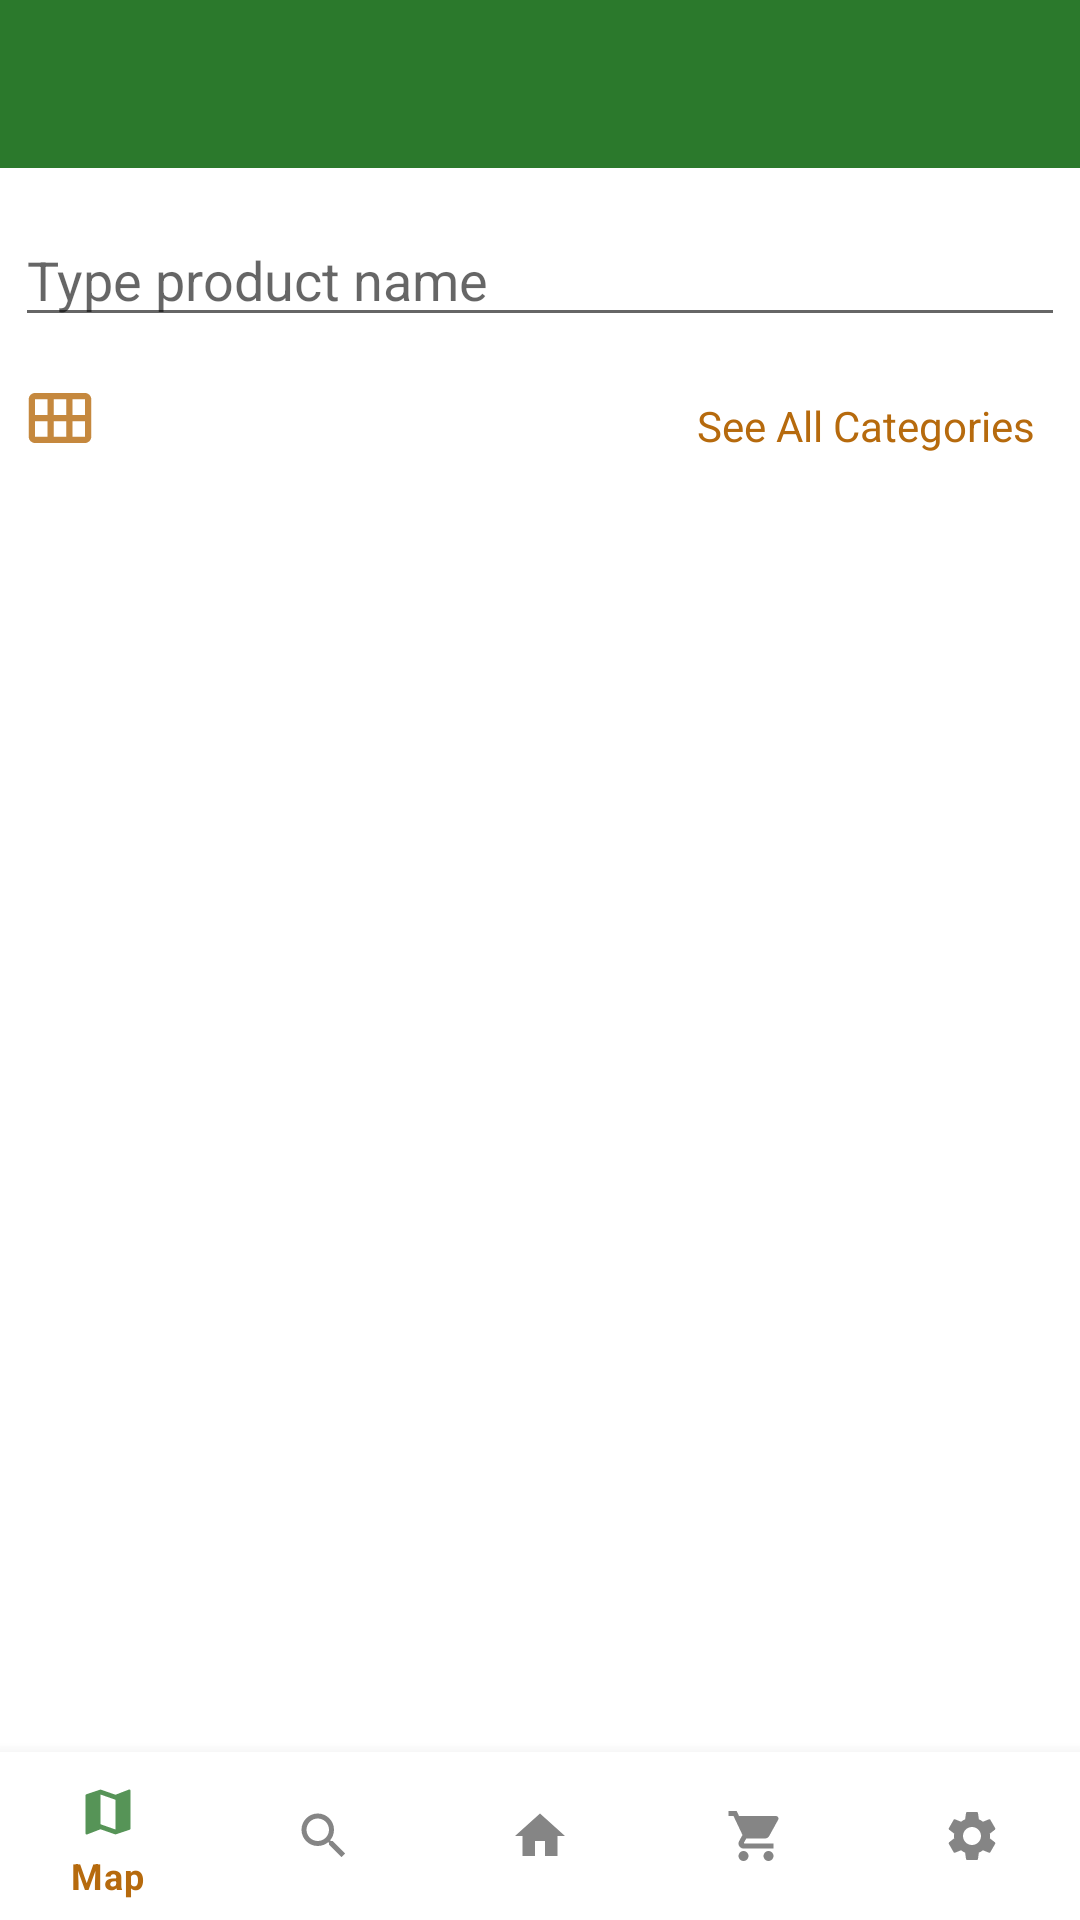

Icons on this 1080*1920 Android screen, each with its box as (x1, y1, x2, y2):
card view: (28, 393, 92, 443)
